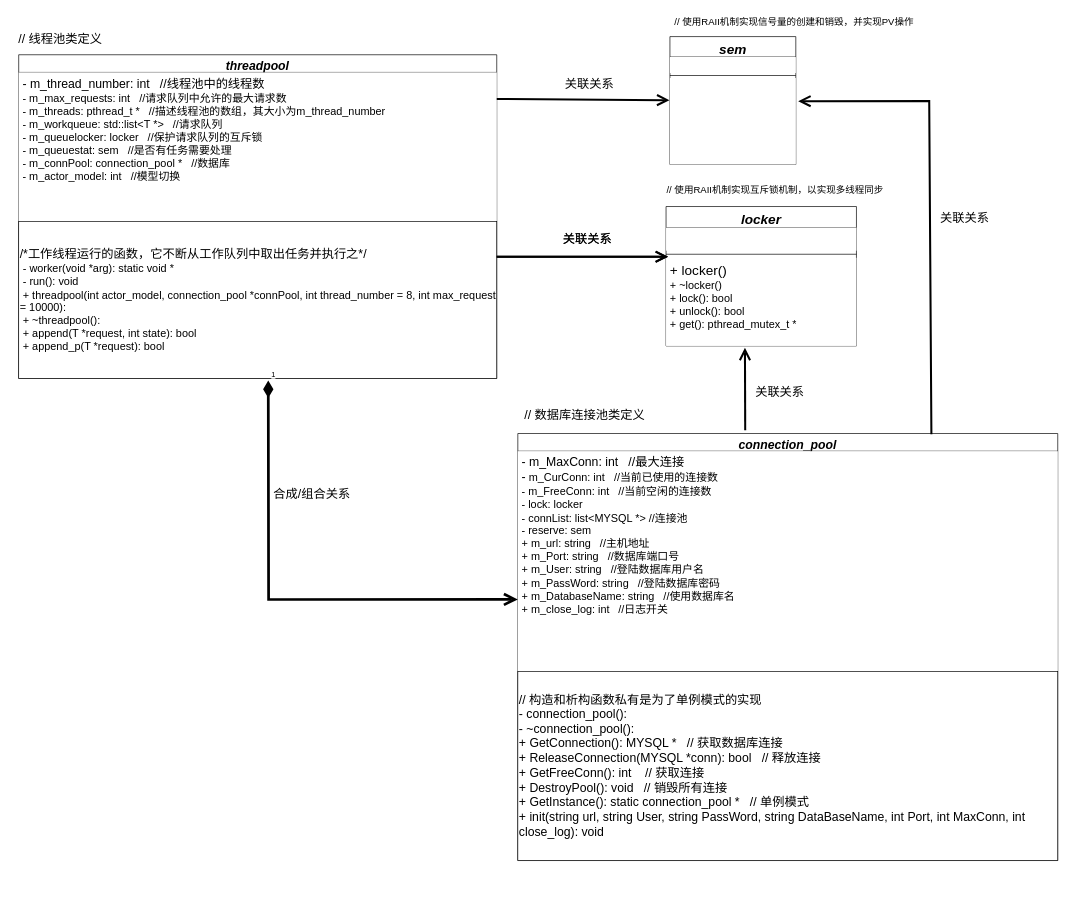
Some shapes in this 1070 by 905 pixel diagram are drawn without their labels. The shapes that lost their labels are listed below. From the top down, each one's centre as x and y in pixels, then its label:
At [732,65]: "- m_sem: sem_t".
At [732,121]: "+ sem() + sem(int num) + ~sem() + wait(): bool + post(): bool".
At [761,238]: "- m_mutex: pthread_mutex_t".
